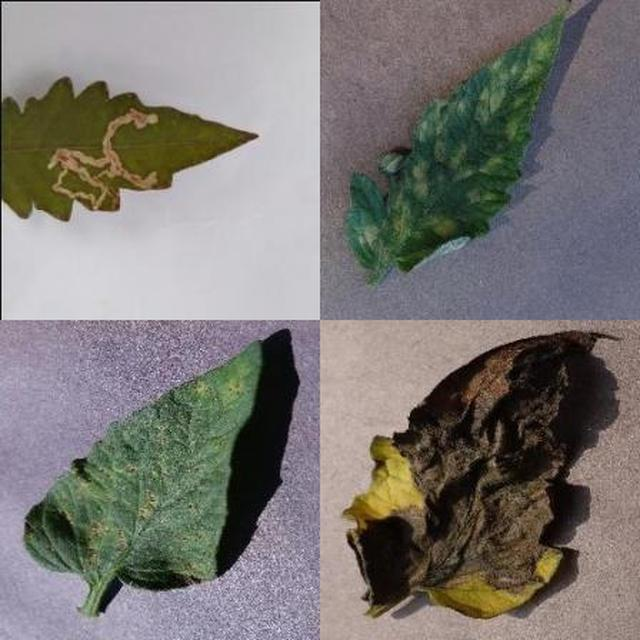Leaf Miner: (187, 196, 640, 640)
